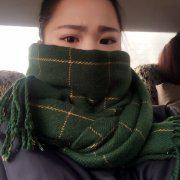OK: (48, 19, 132, 103)
